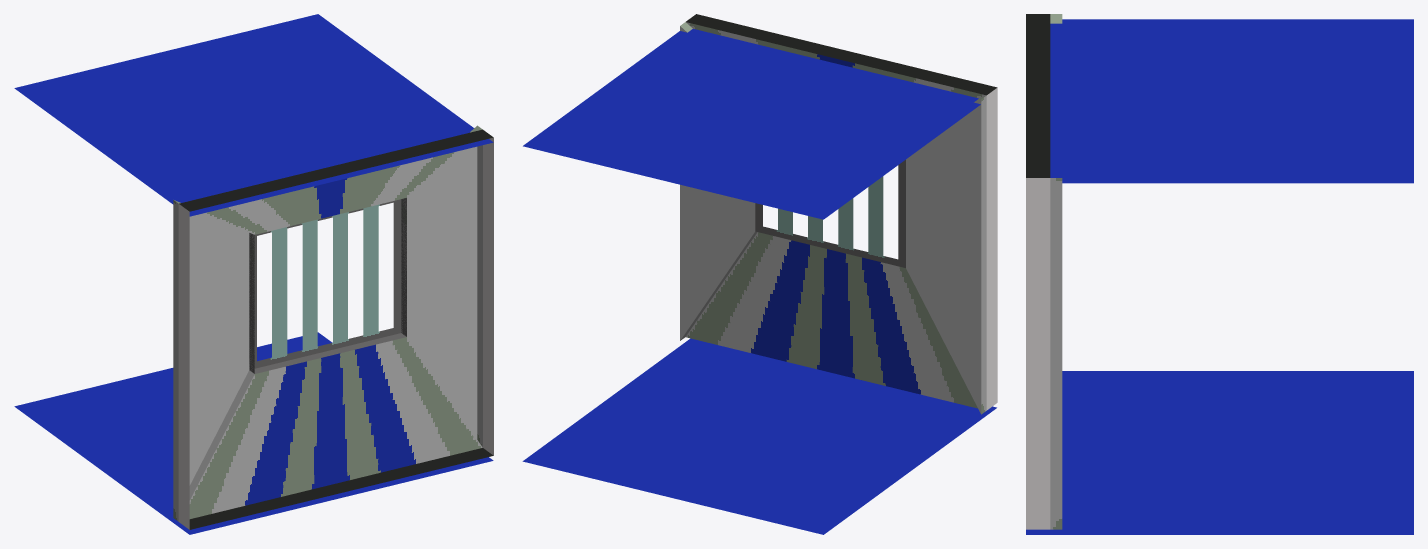
Rendered from WholeBlueTile.gltf.
3 renders of one model, left to right at view 1: azimuth 30°, elevation 25°; view 2: azimuth 150°, elevation 25°; view 3: azimuth 270°, elevation 25°, orthographic. The views are drawn at different scales.
Visible parts, largest first — view 1: blueserverdoor; view 2: blueserverdoor; view 3: blueserverdoor.
Part boxes in pixels (left/top/right/bottom): blueserverdoor: left=14, top=14, right=493, bottom=534; blueserverdoor: left=522, top=14, right=997, bottom=534; blueserverdoor: left=1026, top=14, right=1413, bottom=534.
Bounding box in the file's own units: 2 × 2.03 × 2.
Materials: 2 (2 with a texture image).
